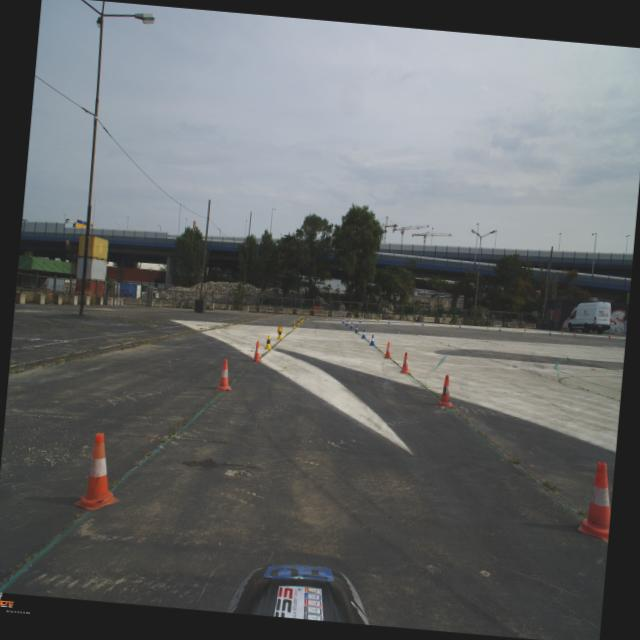blue_cone: (369, 334, 375, 345), (361, 329, 366, 338), (354, 324, 359, 332), (349, 322, 353, 328), (344, 320, 348, 326), (548, 330, 552, 335), (387, 319, 390, 324), (498, 326, 501, 331), (358, 318, 361, 322), (342, 318, 344, 323), (459, 323, 461, 328), (422, 321, 424, 325)
orange_cone: (72, 430, 125, 513), (576, 460, 614, 540), (436, 373, 456, 408), (216, 358, 234, 392), (250, 340, 264, 362), (398, 351, 411, 373), (383, 342, 392, 358), (608, 332, 611, 338), (573, 332, 576, 338)
yellow_cone: (264, 334, 273, 350), (276, 328, 282, 339), (276, 326, 282, 332), (291, 321, 296, 328), (296, 318, 300, 325), (299, 317, 303, 323), (523, 327, 526, 332), (560, 329, 563, 334), (302, 316, 304, 322), (450, 322, 452, 327), (348, 316, 350, 321), (324, 315, 326, 320), (306, 315, 308, 320), (412, 320, 414, 324), (377, 318, 379, 322), (486, 325, 488, 329)
